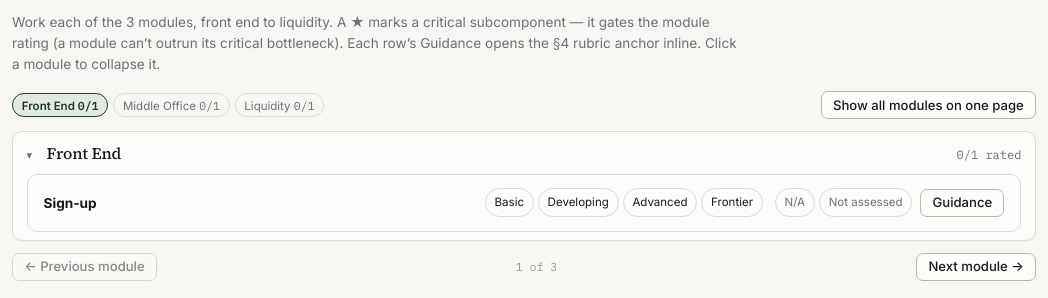
Test case: Infrastructure step paging (GRS-0181) › jumps straight to a module from the chip list
Click the button "Liquidity 0/1": (279, 105) [234,94,324,117]
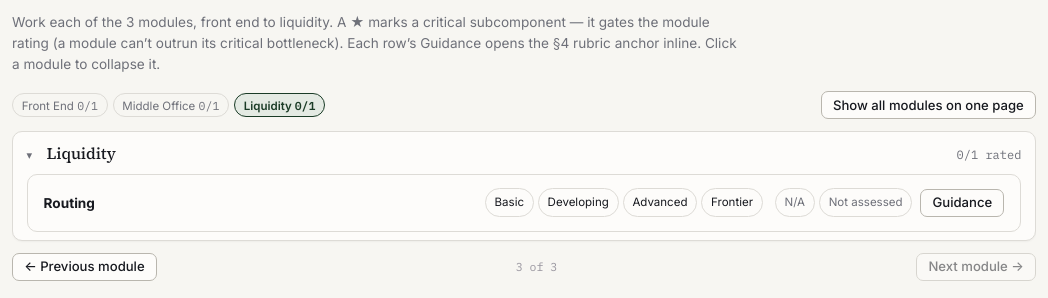
Expected: the text "Routing" is shown, [44,195,95,211]
Expected: the text "3 of 3" is shown, [516,258,557,276]
